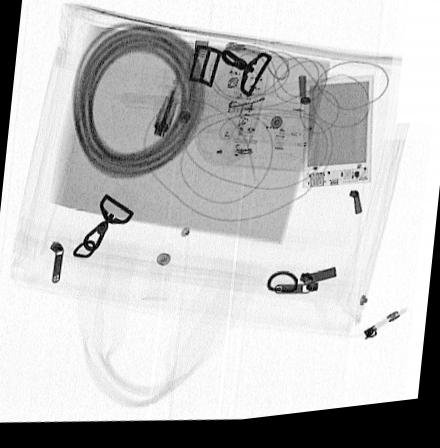Powerbank: (302, 83, 375, 194)
